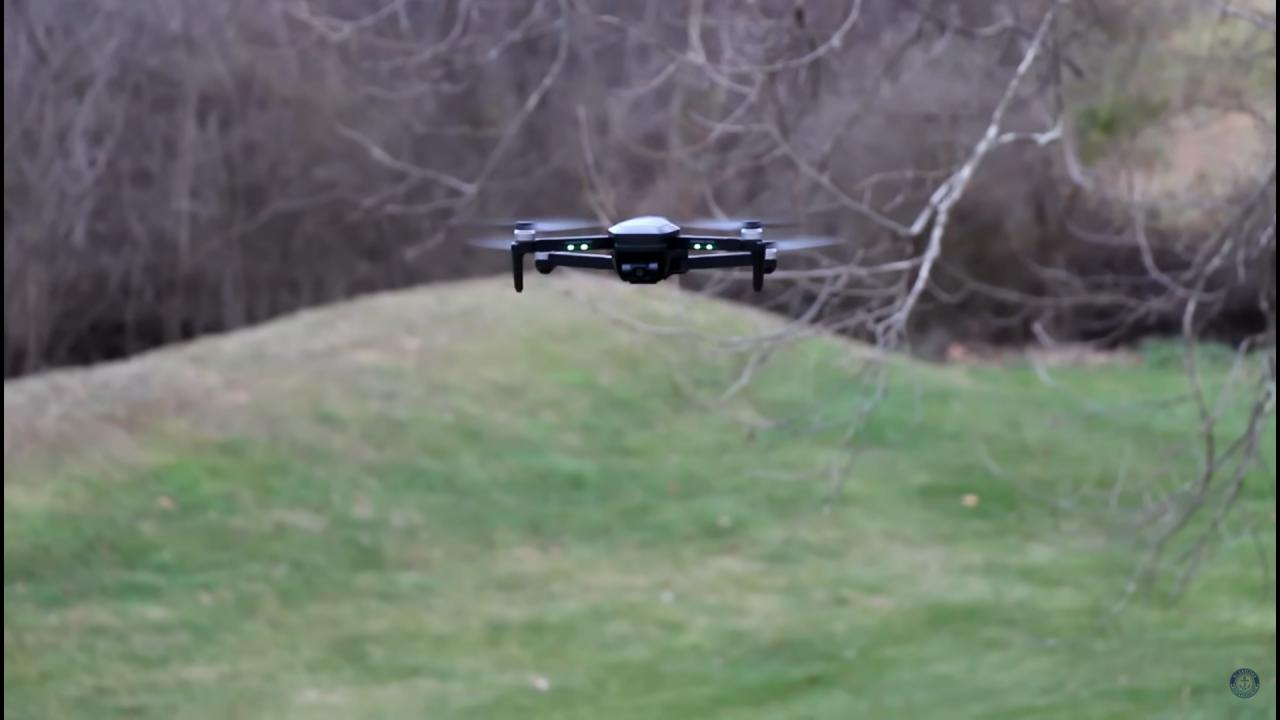Drone: (453, 194, 864, 306)
